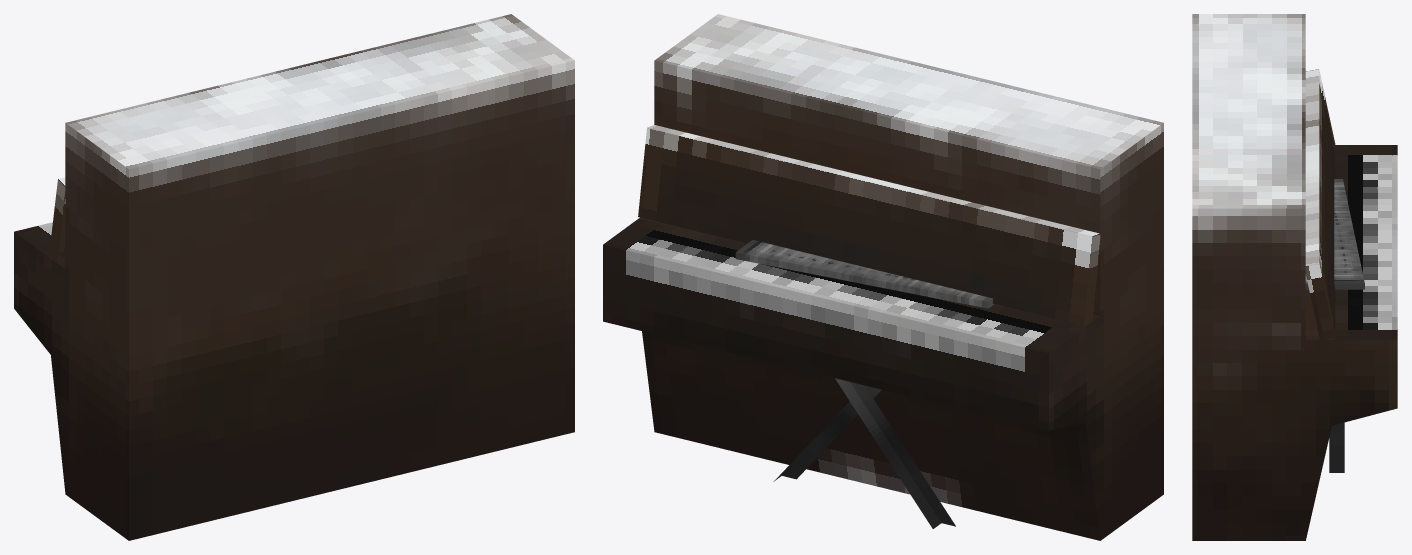
The model's file is musicInstruments.glb.
3 views of the same model, side by side, from view 1: azimuth 30°, elevation 25°; view 2: azimuth 150°, elevation 25°; view 3: azimuth 270°, elevation 25° (orthographic). The views are drawn at different scales.
Visible parts, largest first — view 1: Piano; view 2: Piano, Xylophone; view 3: Piano, Xylophone.
Part boxes in pixels (x1=…): Piano: x1=14, y1=14, x2=574, y2=540; Piano: x1=603, y1=14, x2=1163, y2=540; Xylophone: x1=735, y1=240, x2=994, y2=528; Piano: x1=1192, y1=14, x2=1397, y2=540; Xylophone: x1=1305, y1=179, x2=1364, y2=472.
Size of the model in its own units: 1.75 by 1.4 by 0.7823.
Materials: 1 (1 with a texture image).
